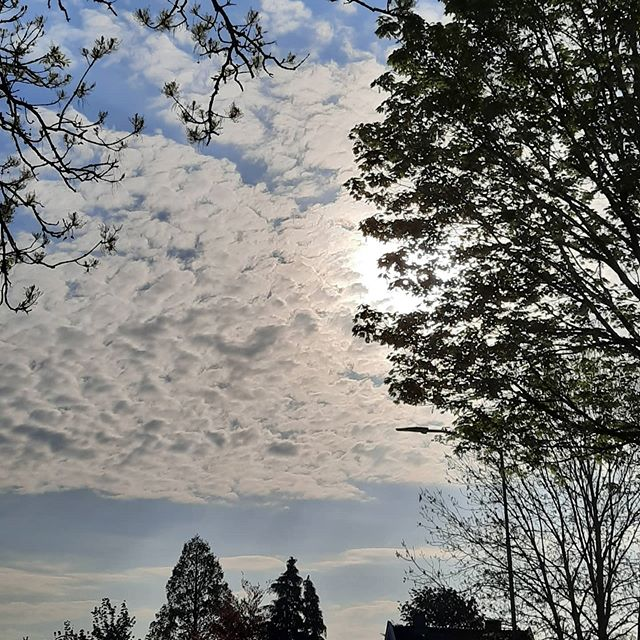sky: (10, 1, 414, 579)
tree: (376, 1, 640, 455), (1, 1, 247, 291), (415, 439, 640, 640), (148, 532, 247, 640), (252, 558, 332, 640)
